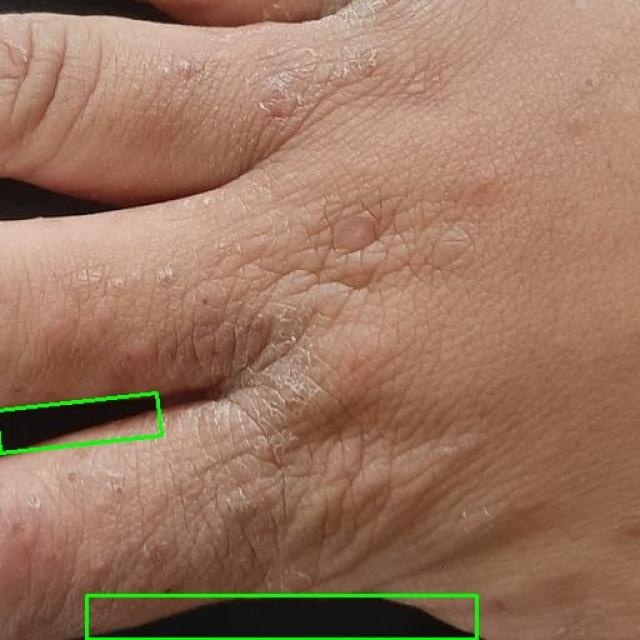Scabies: (86, 595, 476, 639), (0, 393, 162, 454)
